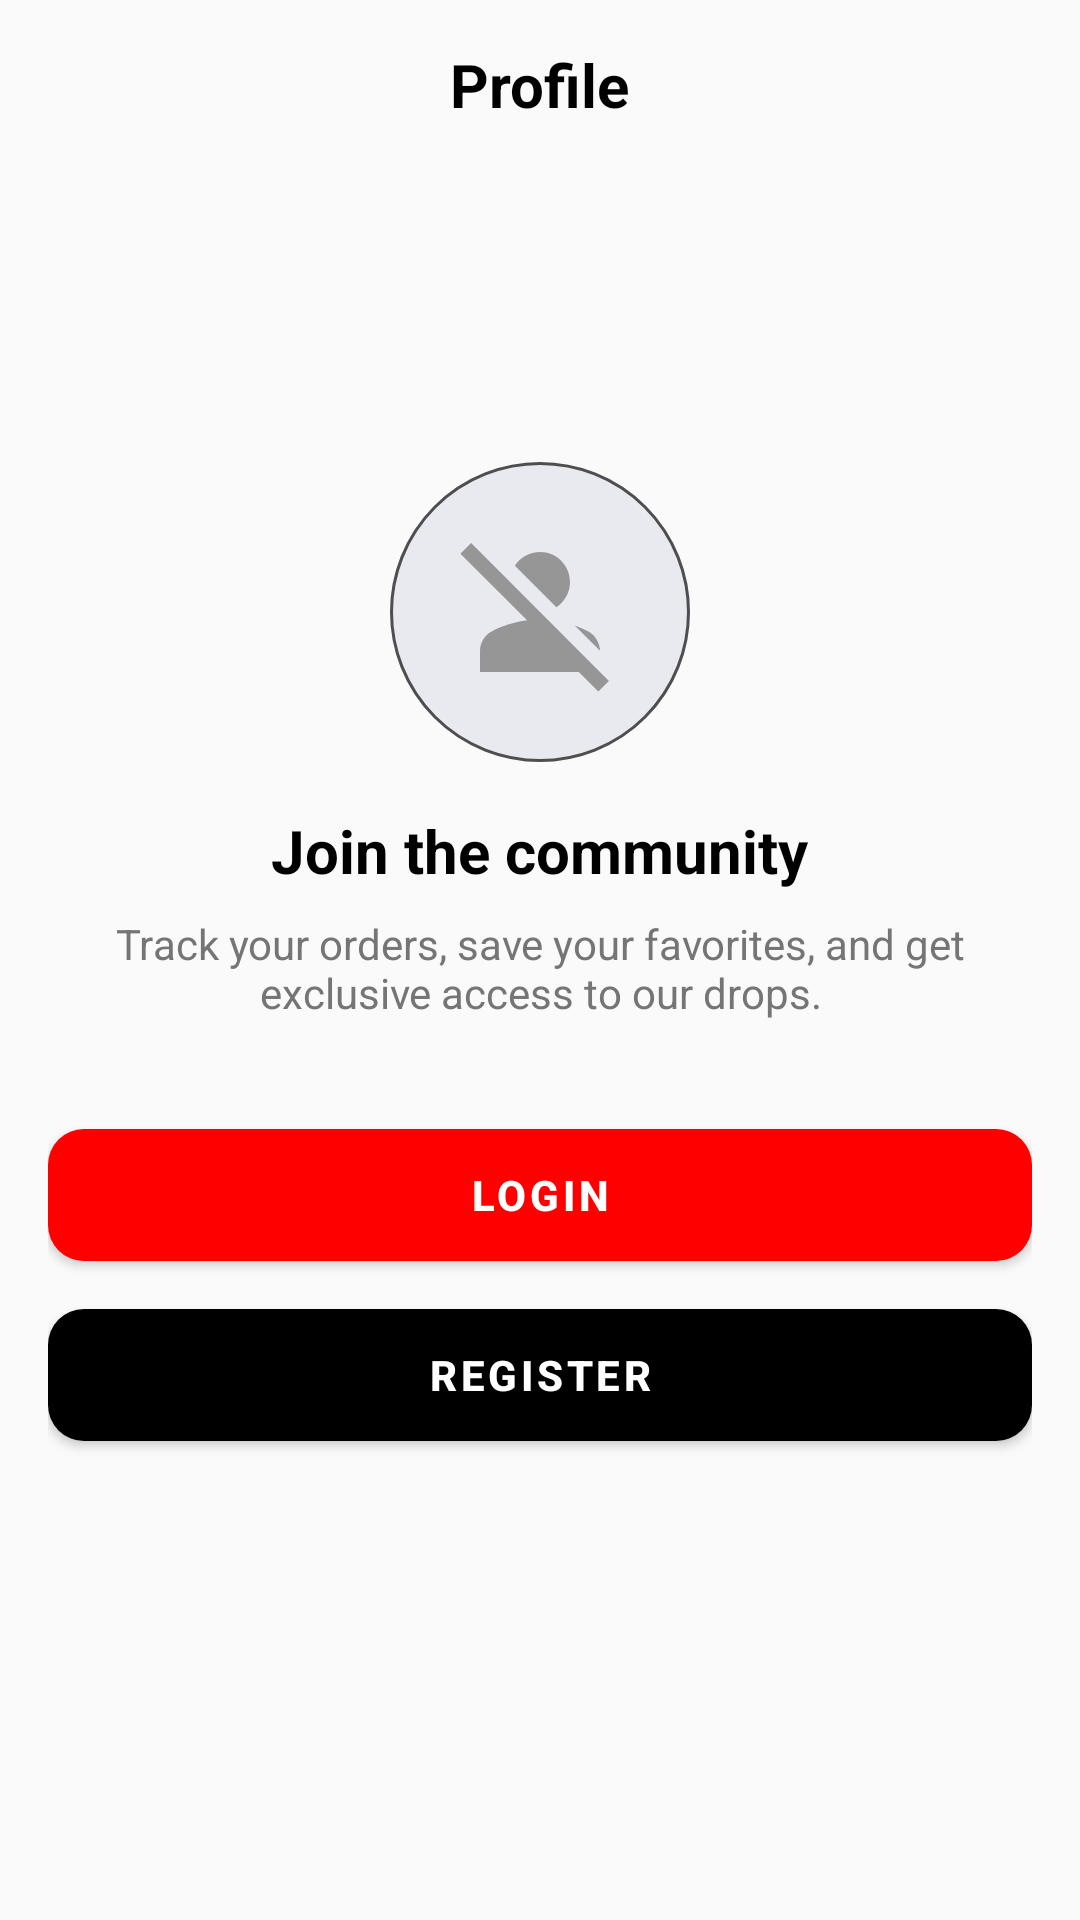

Screen size 1080 x 1920. Icon name, then its box in pixels as (x1, y1, x2, y2):
user off: (390, 462, 690, 762)
